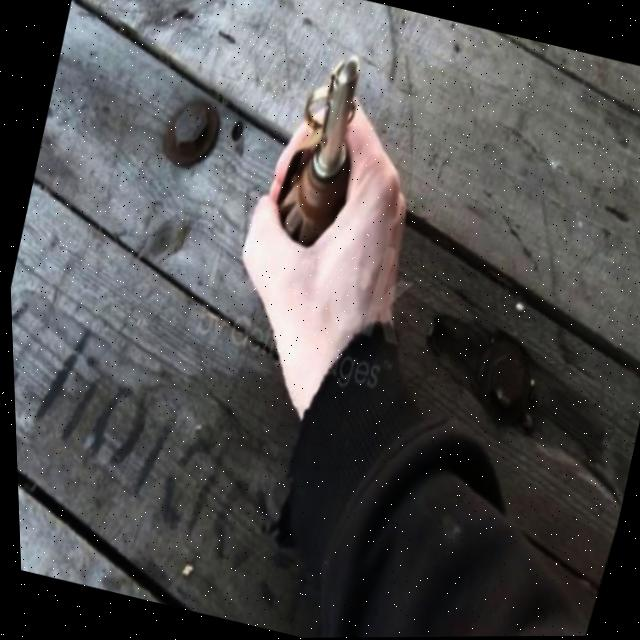grenade: (259, 21, 395, 255)
